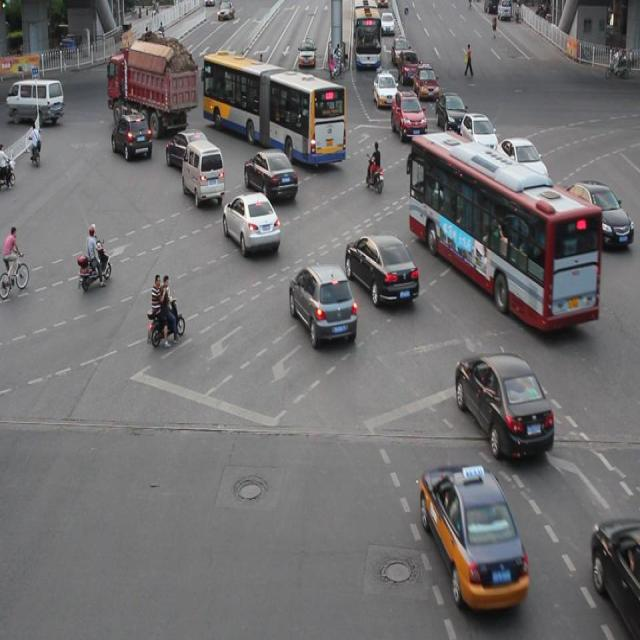bus: (109, 52, 196, 134)
car: (419, 462, 528, 608), (452, 350, 554, 460), (589, 515, 639, 640), (288, 262, 358, 346), (344, 233, 419, 306), (564, 179, 632, 248), (223, 190, 280, 254), (538, 206, 594, 265), (244, 148, 298, 202), (494, 136, 548, 190), (112, 112, 153, 162), (165, 128, 209, 171), (390, 90, 425, 140), (459, 111, 497, 154), (431, 132, 468, 176), (434, 91, 467, 134)
truck: (181, 140, 225, 203)
van: (410, 135, 598, 328), (204, 54, 345, 164)
